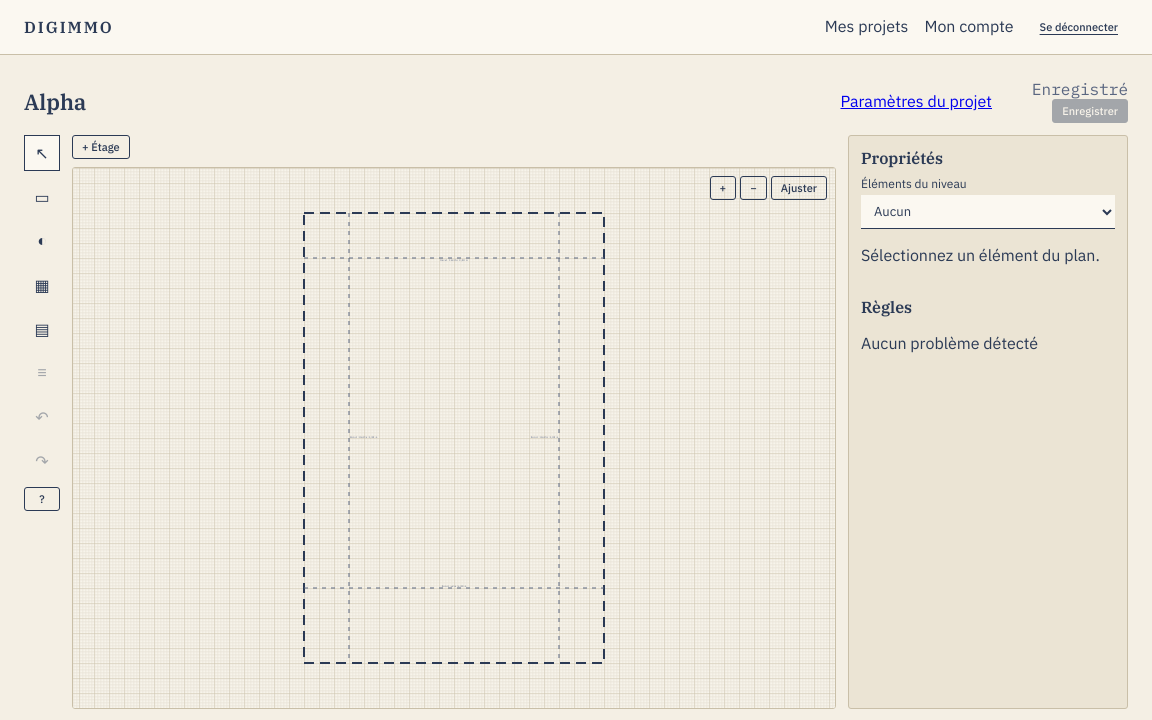
Test case: sauvegarde automatique › 400 : « Échec de l'enregistrement » avec les issues, sans nouvel essai automatique
This screenshot has width=1152, height=720.
Expected: the picture named "Plan du projet" is shown, [73,168,835,708]
Step 1. Click the button "+ Étage" → (101, 147), box [72,135,130,159]
Wait 33100 ms
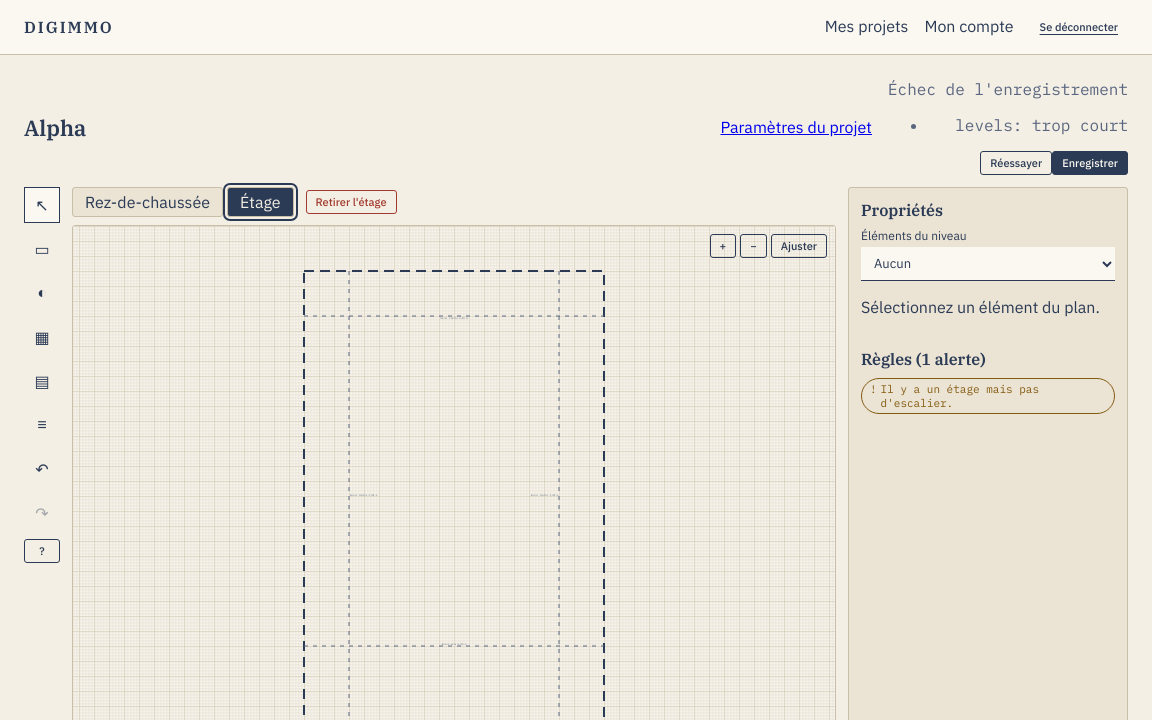
Result: the text "Échec de l'enregistrement" is shown at [888,79,1128,99]
Result: the list item "levels: trop court" is shown at [928,115,1128,135]
